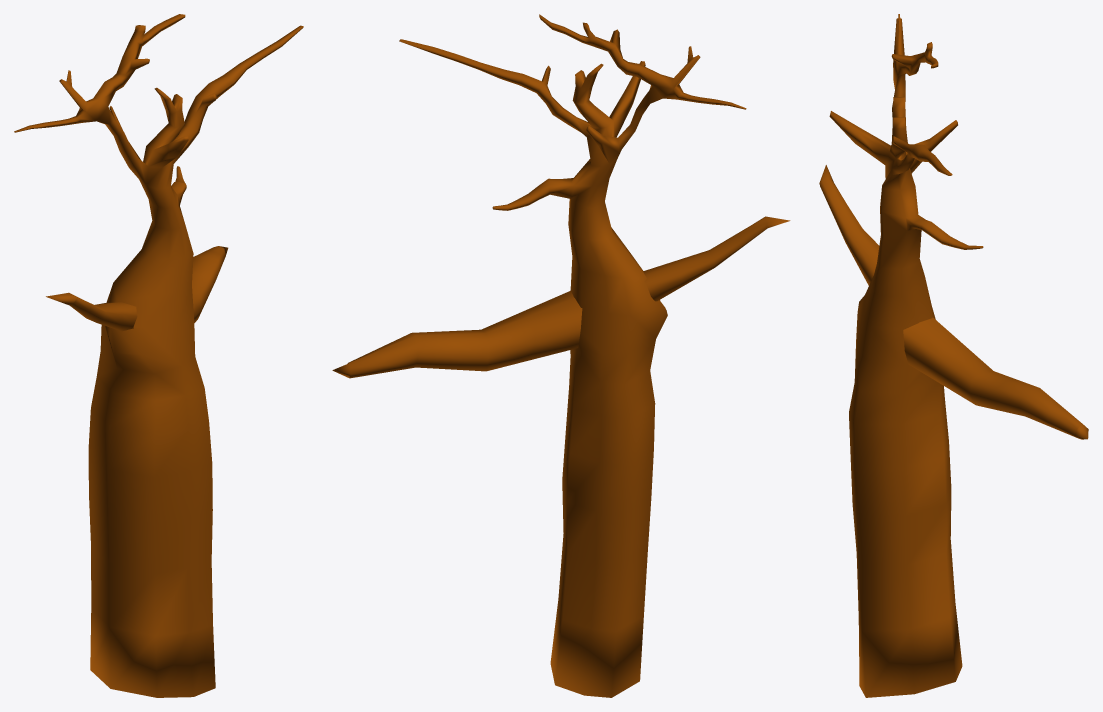
Rendered from TreeModular.glb.
3 renders of one model, left to right at view 1: azimuth 30°, elevation 25°; view 2: azimuth 150°, elevation 25°; view 3: azimuth 270°, elevation 25°, orthographic. The views are drawn at different scales.
Parts seen in each view (by area): view 1: Tree, Tree.002, Tree.001; view 2: Tree, Tree.001, Tree.002; view 3: Tree, Tree.001, Tree.002.
Part boxes in pixels (left/top/right/bottom): Tree: left=14, top=14, right=303, bottom=697; Tree.002: left=46, top=292, right=137, bottom=331; Tree.001: left=192, top=246, right=228, bottom=322; Tree: left=399, top=14, right=746, bottom=697; Tree.001: left=332, top=290, right=582, bottom=378; Tree.002: left=643, top=216, right=790, bottom=301; Tree: left=829, top=14, right=983, bottom=697; Tree.001: left=903, top=317, right=1088, bottom=439; Tree.002: left=819, top=165, right=879, bottom=285.
Bounding box in the file's own units: 104 × 201 × 77.18.
